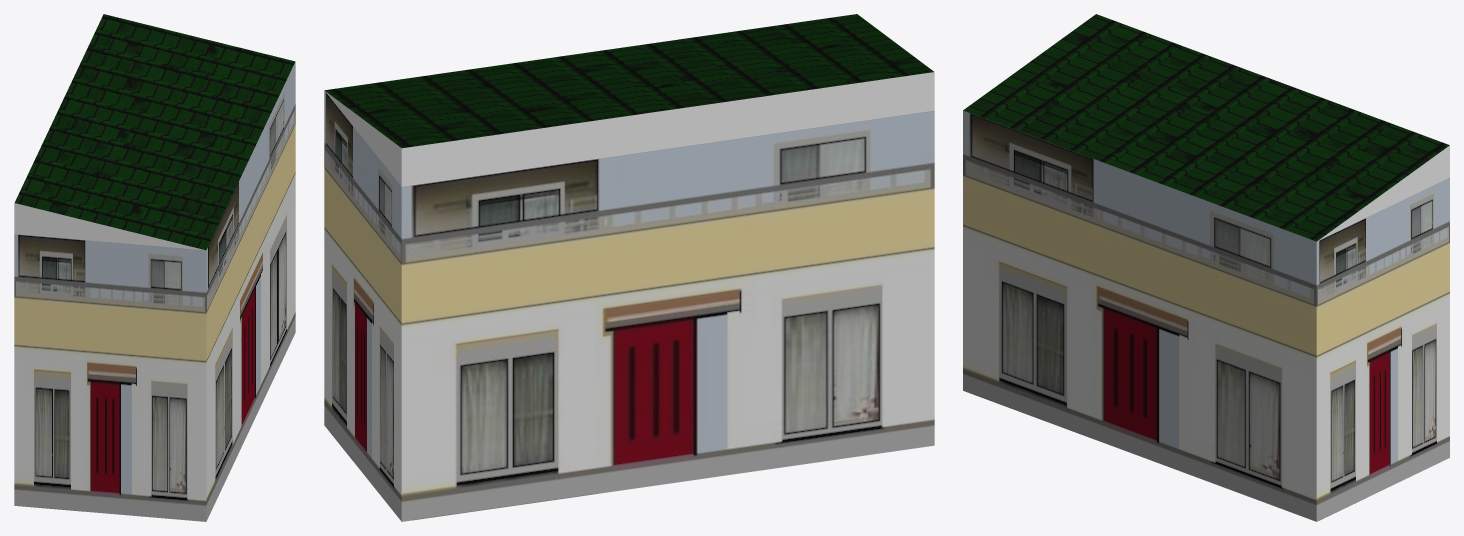
3 views of the same model, side by side, from view 1: azimuth 30°, elevation 25°; view 2: azimuth 150°, elevation 25°; view 3: azimuth 270°, elevation 25° (orthographic). The views are drawn at different scales.
Parts seen in each view (by area): view 1: CityEngineMaterial_15_m, CityEngineMaterial_13_m, CityEngineMaterial_3_m; view 2: CityEngineMaterial_15_m, CityEngineMaterial_13_m, CityEngineMaterial_3_m; view 3: CityEngineMaterial_15_m, CityEngineMaterial_13_m, CityEngineMaterial_3_m.
Boxes of the visible parts, x1=… form: CityEngineMaterial_15_m: x1=14, y1=61, x2=295, y2=521; CityEngineMaterial_13_m: x1=14, y1=14, x2=295, y2=250; CityEngineMaterial_3_m: x1=14, y1=203, x2=204, y2=250; CityEngineMaterial_15_m: x1=324, y1=91, x2=934, y2=521; CityEngineMaterial_13_m: x1=325, y1=14, x2=933, y2=148; CityEngineMaterial_3_m: x1=324, y1=72, x2=934, y2=186; CityEngineMaterial_15_m: x1=963, y1=110, x2=1449, y2=521; CityEngineMaterial_13_m: x1=963, y1=14, x2=1449, y2=241; CityEngineMaterial_3_m: x1=1318, y1=145, x2=1449, y2=240.
Size of the model in its own units: 11.59 by 8.65 by 12.21.
